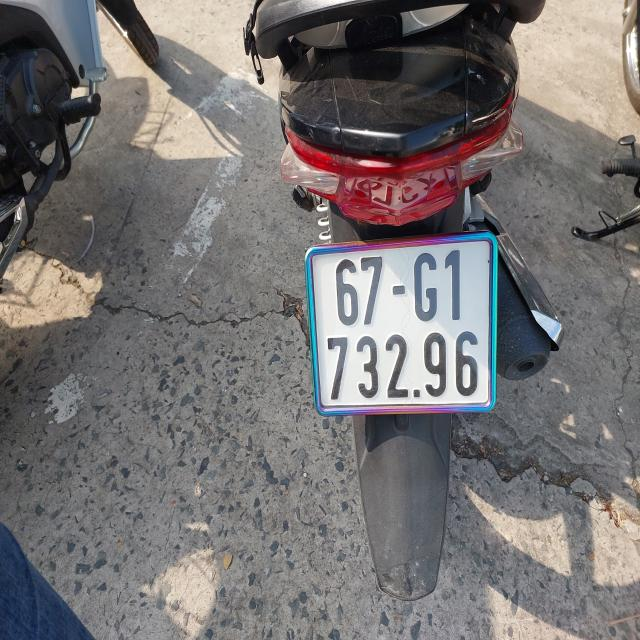1: (445, 248, 464, 320)
2: (386, 334, 410, 399)
3: (355, 336, 379, 400)
6: (333, 256, 359, 326), (455, 329, 480, 398)
7: (360, 256, 382, 324), (326, 335, 348, 400)
9: (424, 332, 448, 400)
G: (414, 252, 438, 321)
